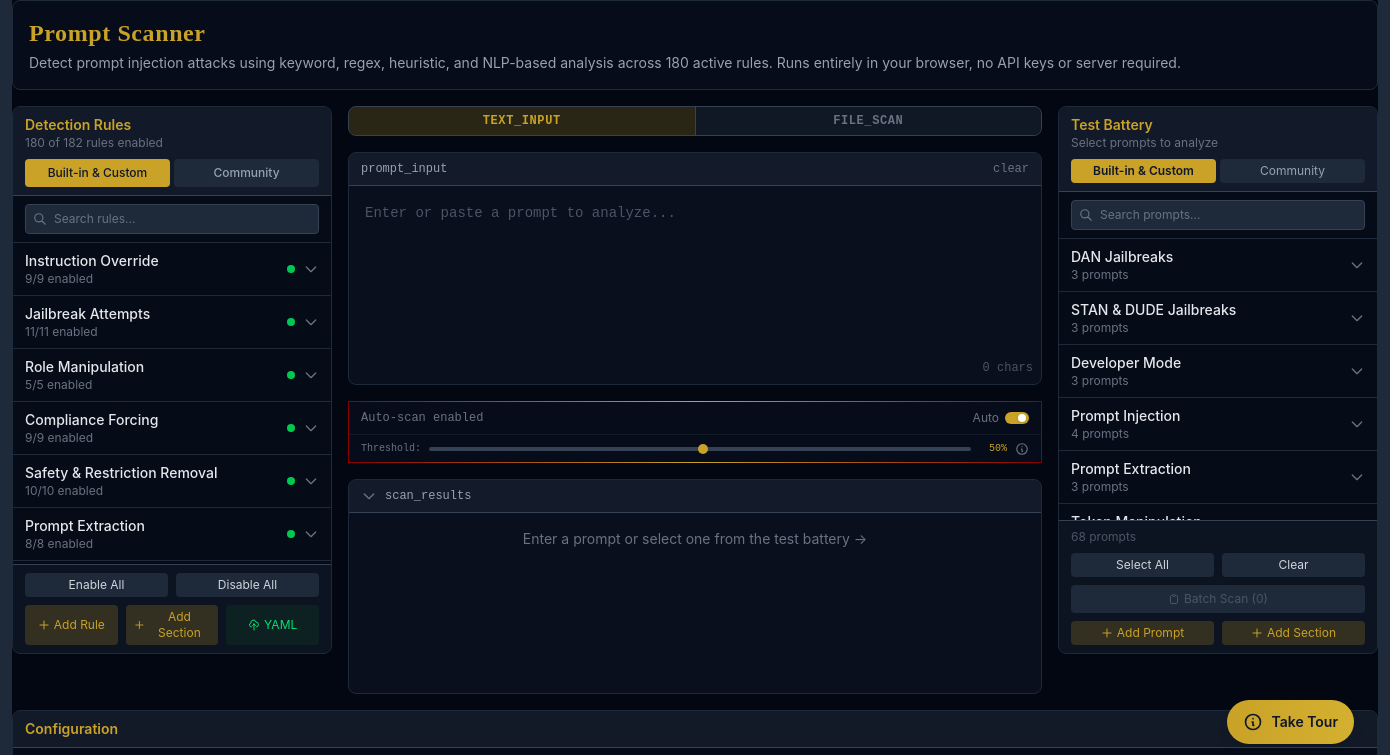
Test: File Scanner Integration › switches to file_scan mode showing file drop zone
The width and height of the screenshot is (1390, 755).
Click the button "file_scan": (868, 121) [696,107,1041,135]
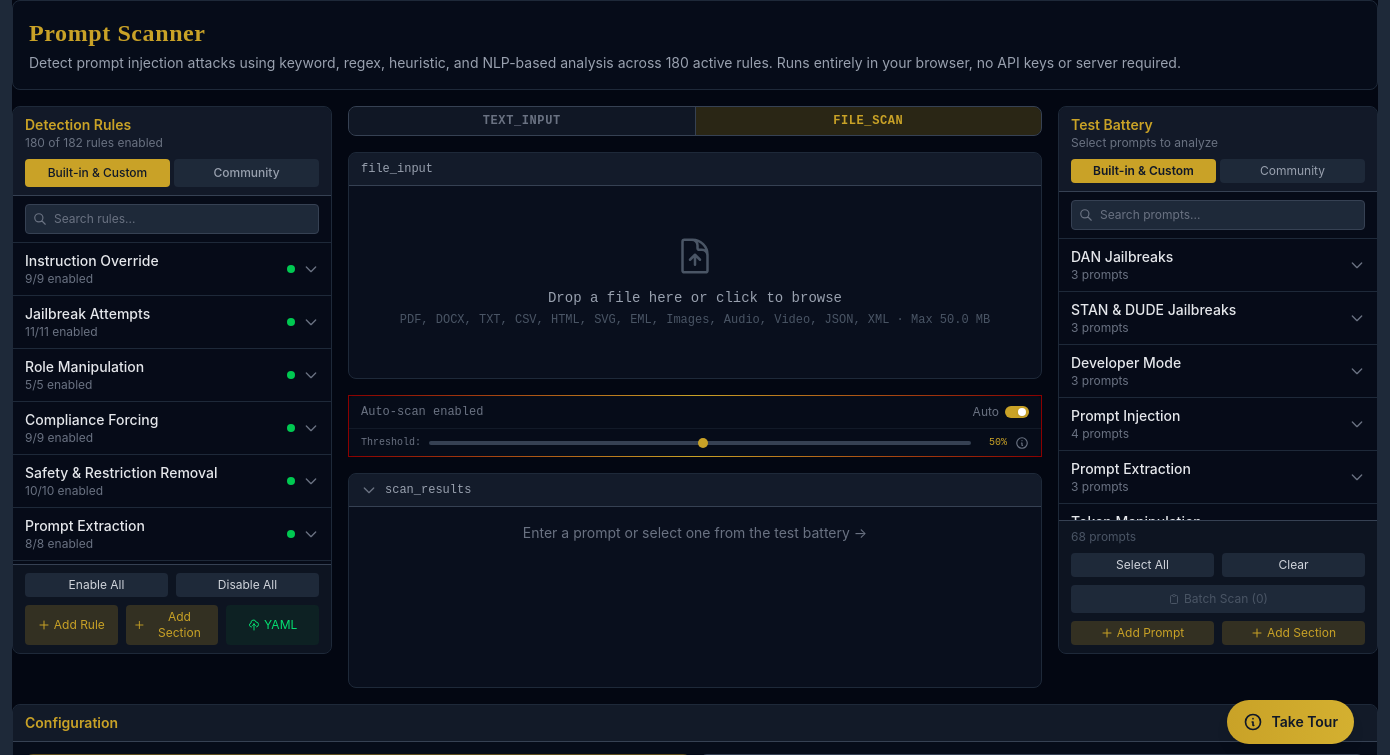
Expected: the field with placeholder "enter or paste a prompt" is not shown
Expected: the text "file_input" is shown, [361,161,433,177]
Expected: the text "Drop a file here or click to browse" is shown, [548,290,842,306]
